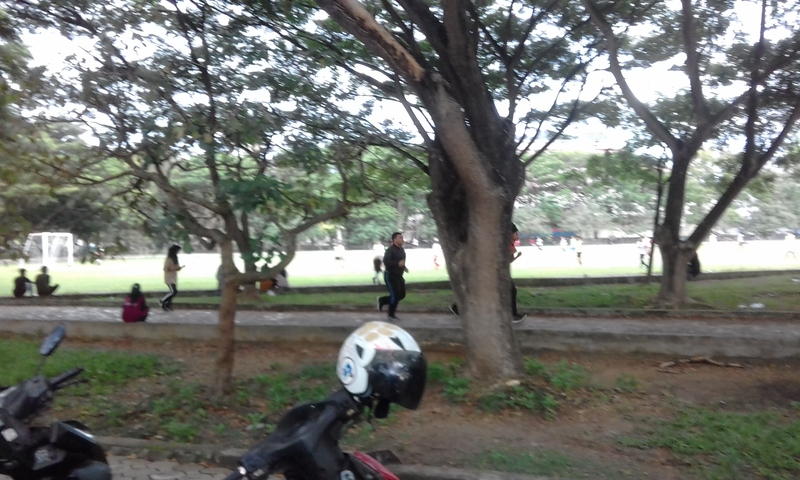person: (375, 228, 410, 322), (158, 242, 182, 314)
